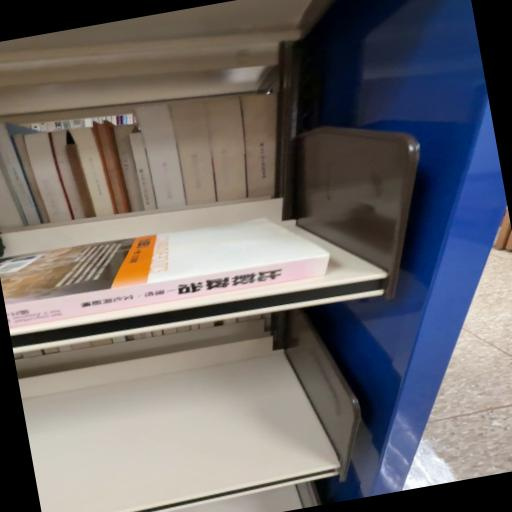flat: (1, 219, 330, 329)
